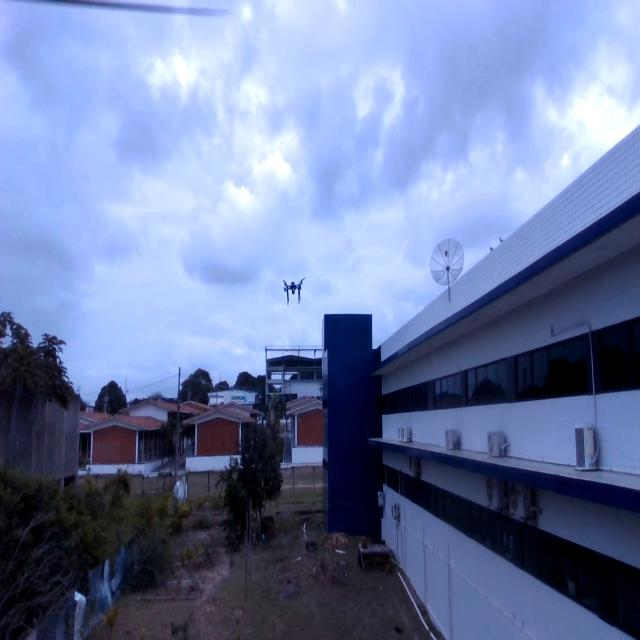-uav-: (278, 267, 309, 314)
